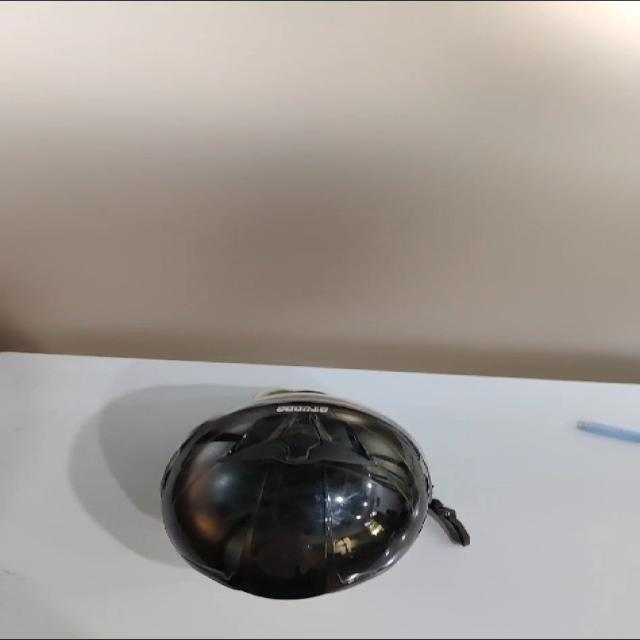helmet: (144, 386, 435, 596)
